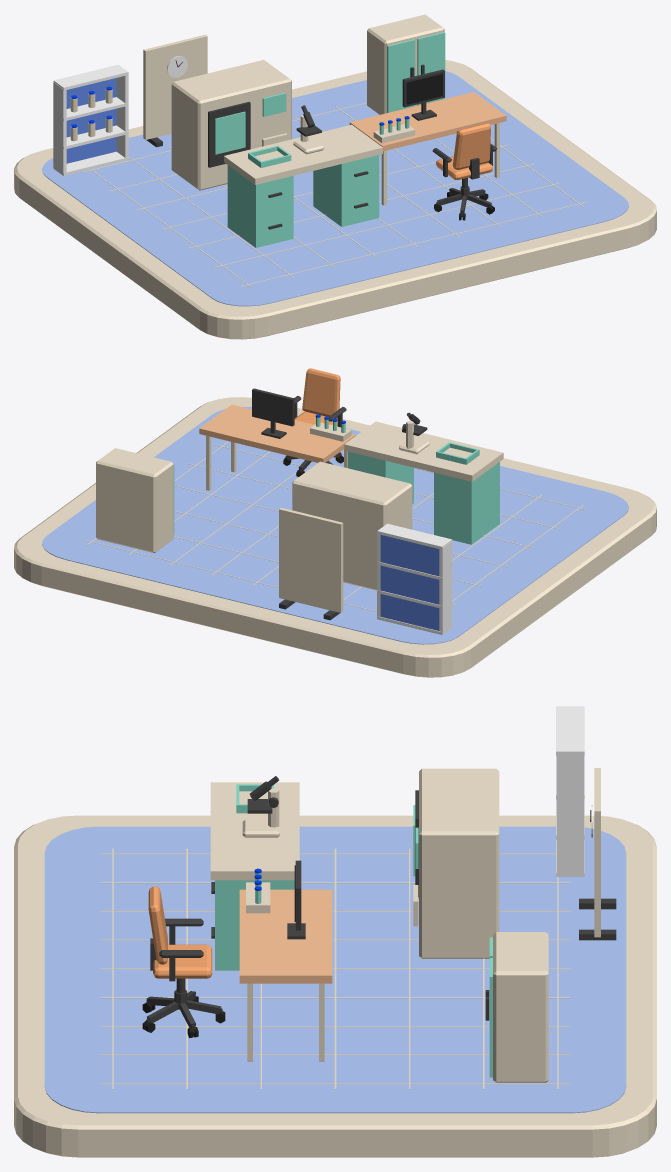
The model's file is room.fbx.
3 renders of one model, top to bottom at view 1: azimuth 30°, elevation 25°; view 2: azimuth 150°, elevation 25°; view 3: azimuth 270°, elevation 25°, orthographic. The views are drawn at different scales.
Visible parts, largest first — view 1: COM-02 Floor Surface, COM-01 Rounded Base Direct, Analysis cabinet, Top, Storage module, Worktop, Storage module.001, Panel, COM-04_Chair_blender_direct, Equipment case, Cabinet back, Door (+13 smaller); view 2: COM-02 Floor Surface, COM-01 Rounded Base Direct, Analysis cabinet, Equipment case, Panel, Cabinet back, Top, Storage module, Worktop, COM-04_Chair_blender_direct, Frame, Clean supply cabinet side (+3 smaller); view 3: COM-02 Floor Surface, COM-01 Rounded Base Direct, Analysis cabinet, Top, Equipment case, Worktop, COM-04_Chair_blender_direct, Clean supply cabinet side.001, Storage module.001, Clean supply shelf.003, Panel, Grout X.008 (+5 smaller).
Boxes of the visible parts, <box> form: COM-02 Floor Surface: <box>42,71,628,306</box>; COM-01 Rounded Base Direct: <box>14,60,656,339</box>; Analysis cabinet: <box>171,60,291,190</box>; Top: <box>349,92,506,205</box>; Storage module: <box>227,165,293,247</box>; Worktop: <box>224,124,382,184</box>; Storage module.001: <box>313,155,379,226</box>; Panel: <box>143,34,207,139</box>; COM-04_Chair_blender_direct: <box>432,123,497,220</box>; Equipment case: <box>367,14,444,114</box>; Cabinet back: <box>66,78,116,163</box>; Door: <box>387,39,415,112</box>; COM-02 Floor Surface: <box>42,407,628,644</box>; COM-01 Rounded Base Direct: <box>14,397,656,677</box>; Analysis cabinet: <box>292,461,412,590</box>; Equipment case: <box>96,448,173,553</box>; Panel: <box>279,507,343,612</box>; Cabinet back: <box>380,535,439,630</box>; Top: <box>199,404,355,490</box>; Storage module: <box>434,462,499,544</box>; Worktop: <box>344,421,503,481</box>; COM-04_Chair_blender_direct: <box>283,368,346,476</box>; Frame: <box>252,388,294,438</box>; Clean supply cabinet side: <box>439,541,452,634</box>; COM-02 Floor Surface: <box>44,826,626,1113</box>; COM-01 Rounded Base Direct: <box>14,815,656,1157</box>; Analysis cabinet: <box>419,768,499,958</box>; Top: <box>239,889,332,1061</box>; Equipment case: <box>493,932,548,1082</box>; Worktop: <box>210,782,299,880</box>; COM-04_Chair_blender_direct: <box>142,886,225,1038</box>; Clean supply cabinet side.001: <box>556,753,584,876</box>; Storage module.001: <box>215,880,294,970</box>; Clean supply shelf.003: <box>556,706,584,755</box>; Panel: <box>594,768,600,937</box>; Grout X.008: <box>100,1083,570,1084</box>.
Bounding box in the file's own units: 600 × 169 × 520.
